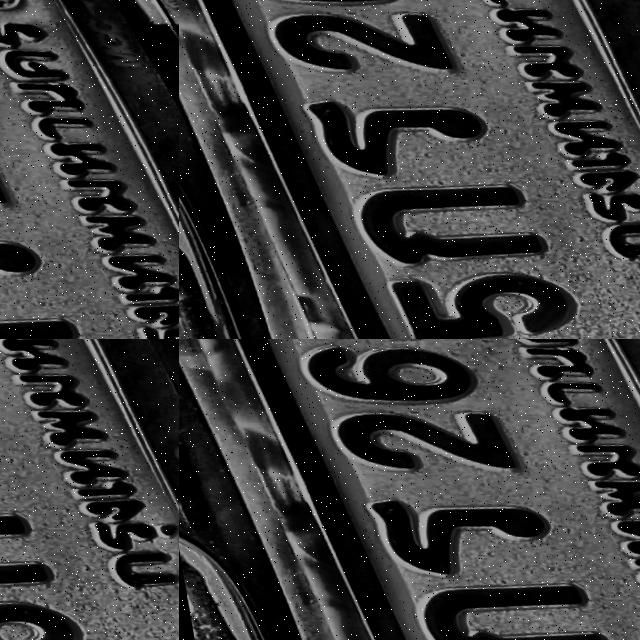license-plate: (179, 339, 640, 640), (556, 212, 640, 306), (130, 174, 179, 223)
